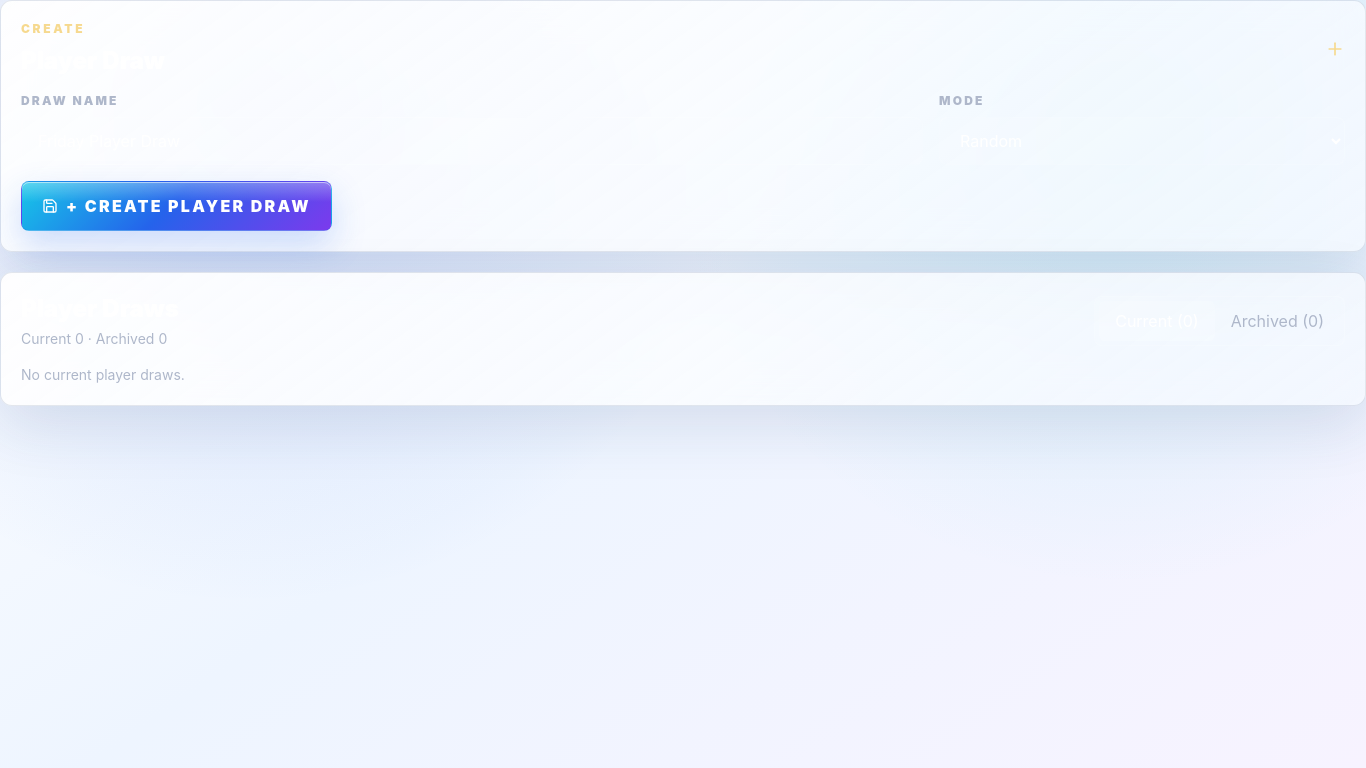
Test case: admin feedback banners › creates new player draws without preloaded sample participants
Click the button "+ CREATE PLAYER DRAW". click: (176, 206)
box: 21,181 -> 332,231
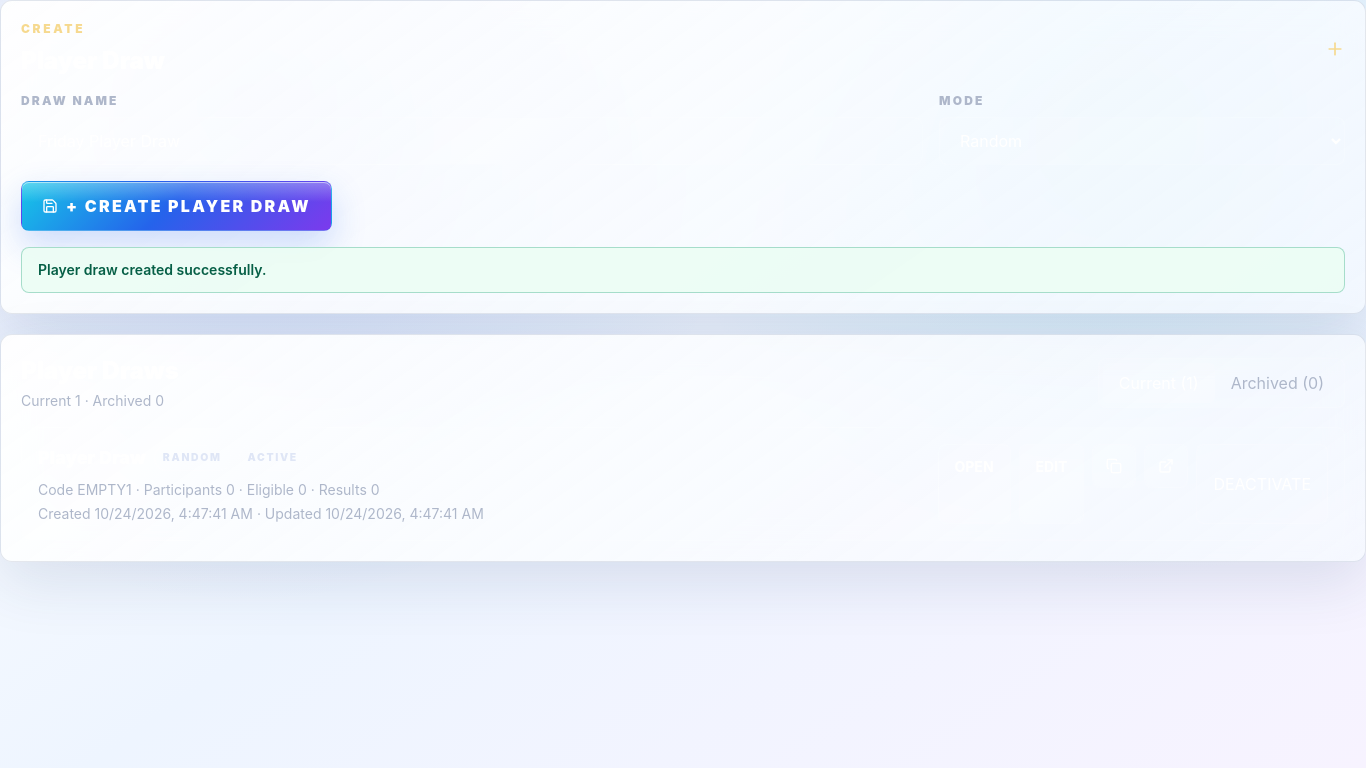
Expected: the text "Player draw created successfully." is shown, 21,247 -> 1345,293
Expected: the text "Code EMPTY1 · Participants 0 · Eligible 0 · Results 0" is shown, 38,481 -> 380,498
